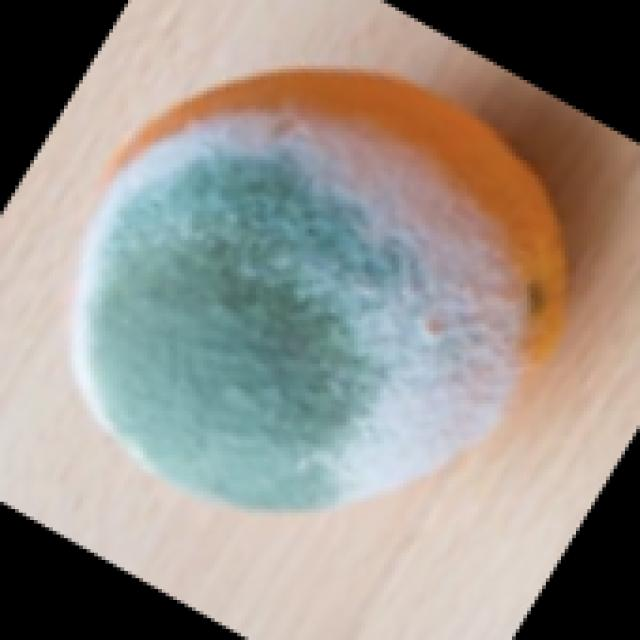sangat_busuk: (77, 63, 554, 506)
